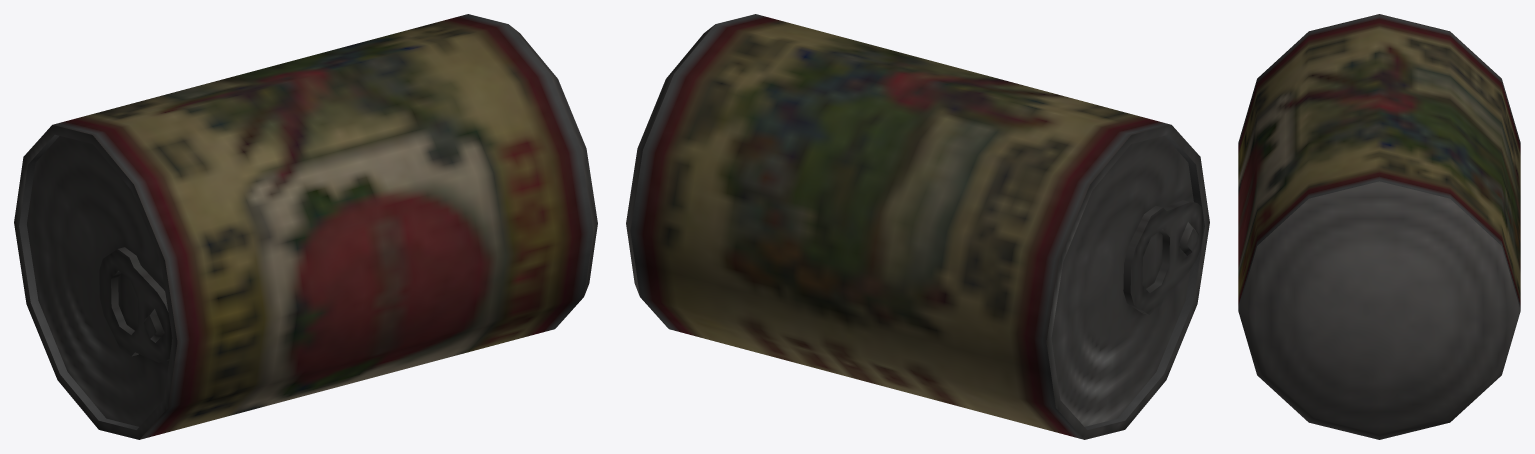
File: canned_food_mp_1.fbx
3 renders of one model, left to right at view 1: azimuth 30°, elevation 25°; view 2: azimuth 150°, elevation 25°; view 3: azimuth 270°, elevation 25°, orthographic. The views are drawn at different scales.
Parts seen in each view (by area): view 1: canned_food_mp_1; view 2: canned_food_mp_1; view 3: canned_food_mp_1.
Part boxes in pixels (x1,y1,x2,y2): canned_food_mp_1: (14,14,597,439); canned_food_mp_1: (626,14,1209,439); canned_food_mp_1: (1238,14,1520,439).
Size of the model in its own units: 0.1691 by 0.1134 by 0.11.
